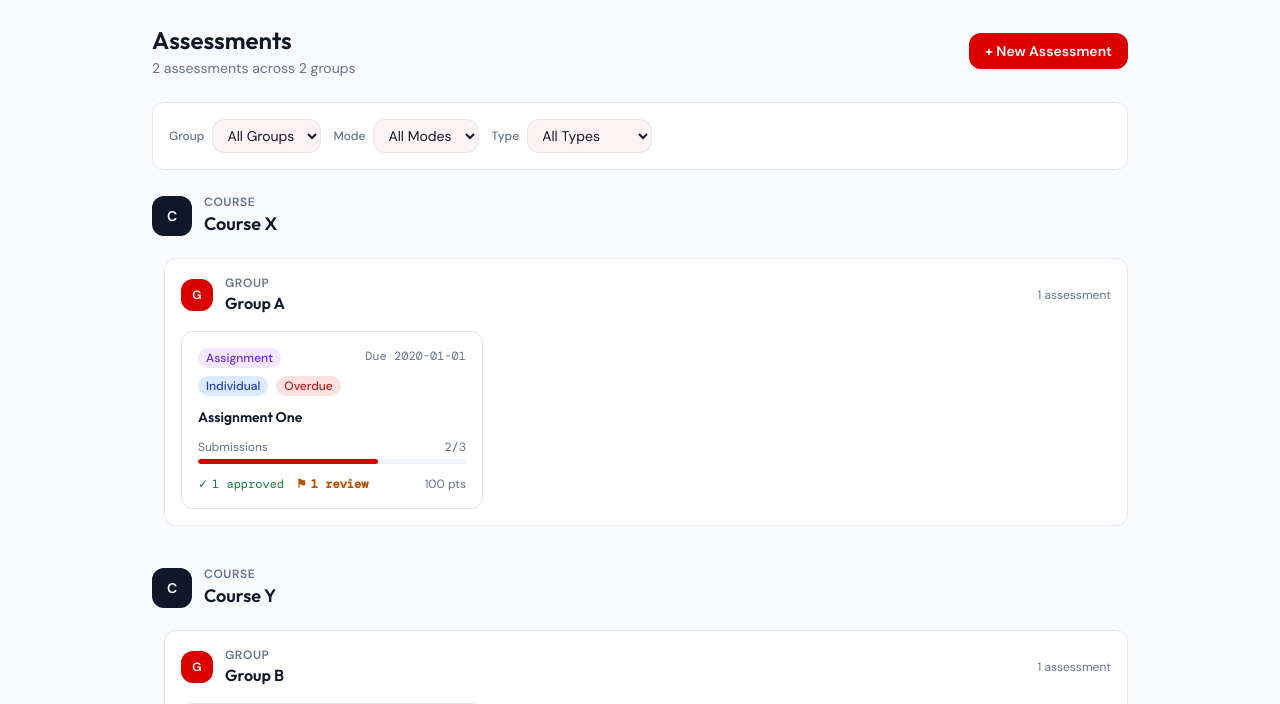
Test: TeacherAssessments - list view › filters by group
Expected: the text "Assignment One" is shown, [198,408,302,426]
Step 1. Select "Group B" in the 1st dropdown → (267, 136), box [212,119,321,153]
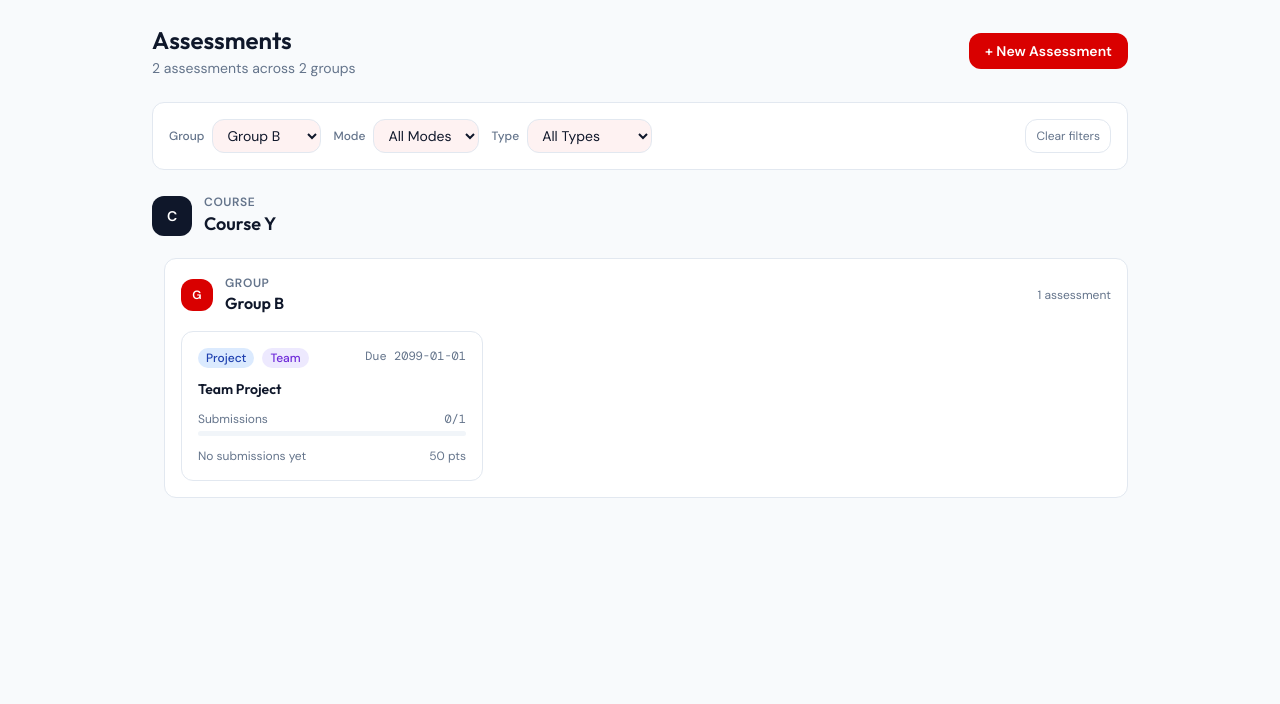
Expected: the text "Team Project" is shown, [198,380,281,398]
Expected: the button "Assignment One" is gone
